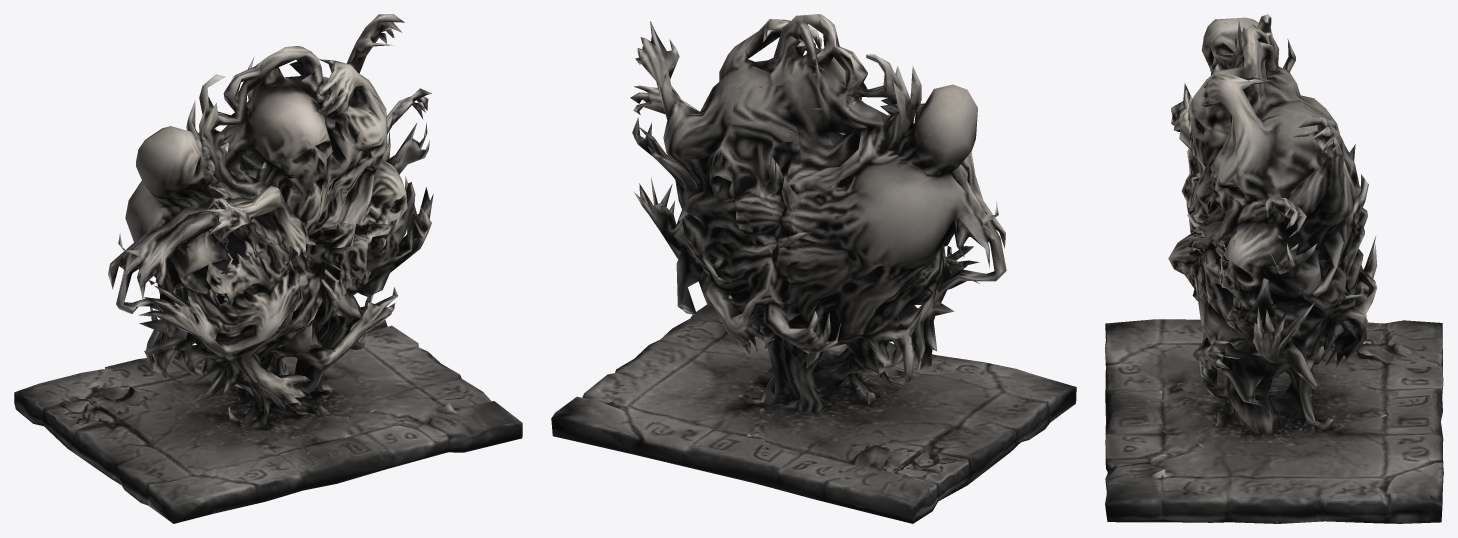
The model's file is vulto.glb.
3 views of the same model, side by side, from view 1: azimuth 30°, elevation 25°; view 2: azimuth 150°, elevation 25°; view 3: azimuth 270°, elevation 25° (orthographic). The views are drawn at different scales.
Size of the model in its own units: 1.81 by 1.9 by 1.42.
1 material, 1 textured.
